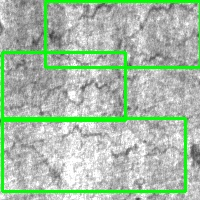crazing: (2, 118, 185, 191), (45, 1, 200, 67), (2, 52, 125, 120)
